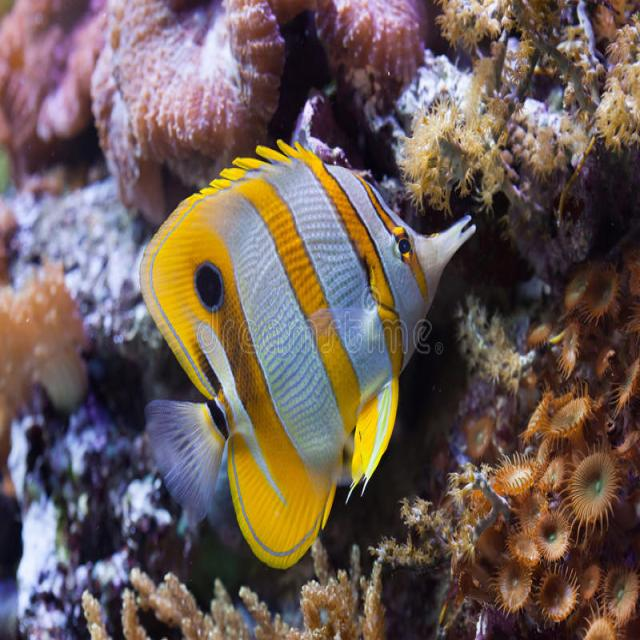ButterflyFish: (143, 147, 474, 566)
